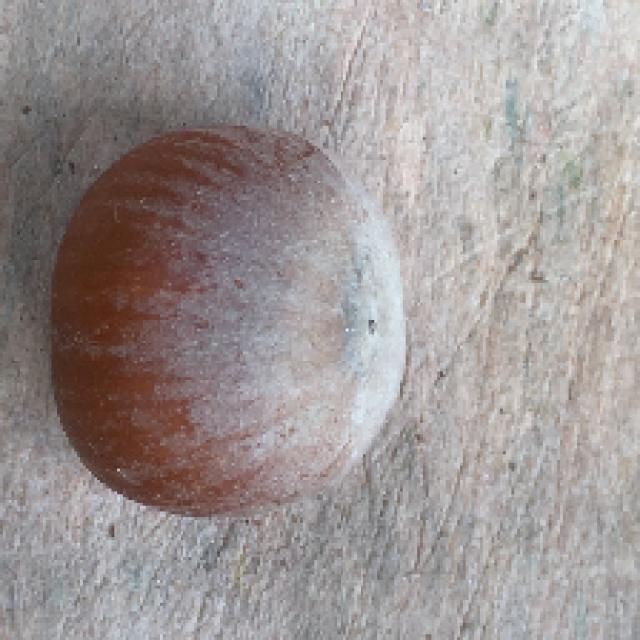qualityHazelnut: (48, 110, 410, 517)
